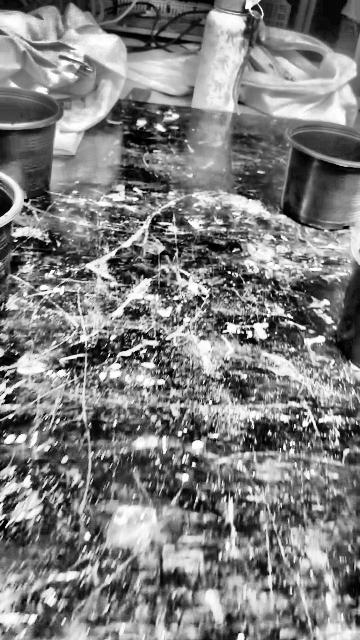pot: (281, 122, 359, 229), (0, 87, 64, 204)
